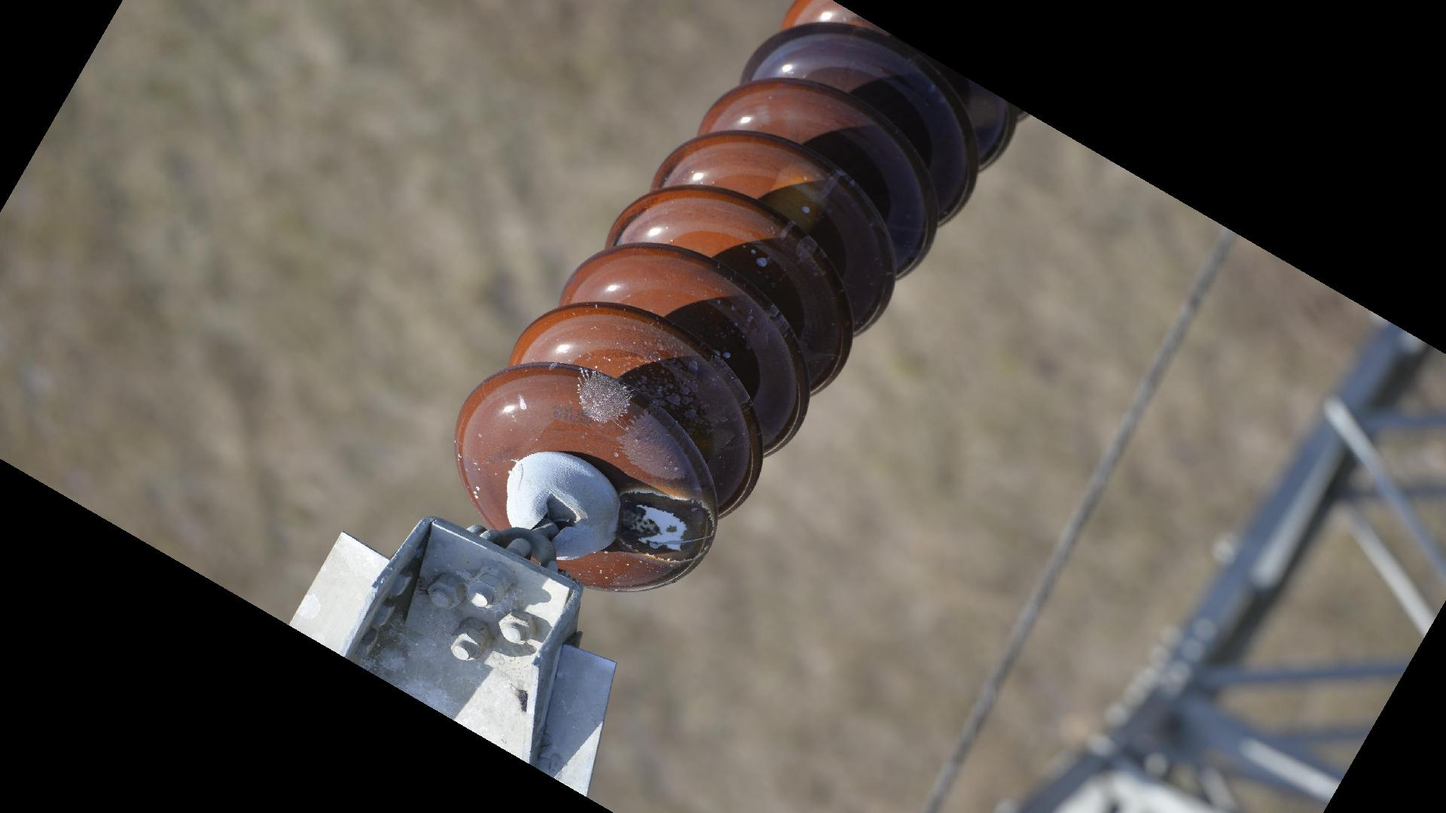insulator: (448, 1, 1033, 602)
insulator_flashover: (615, 486, 718, 566), (764, 157, 834, 236)
